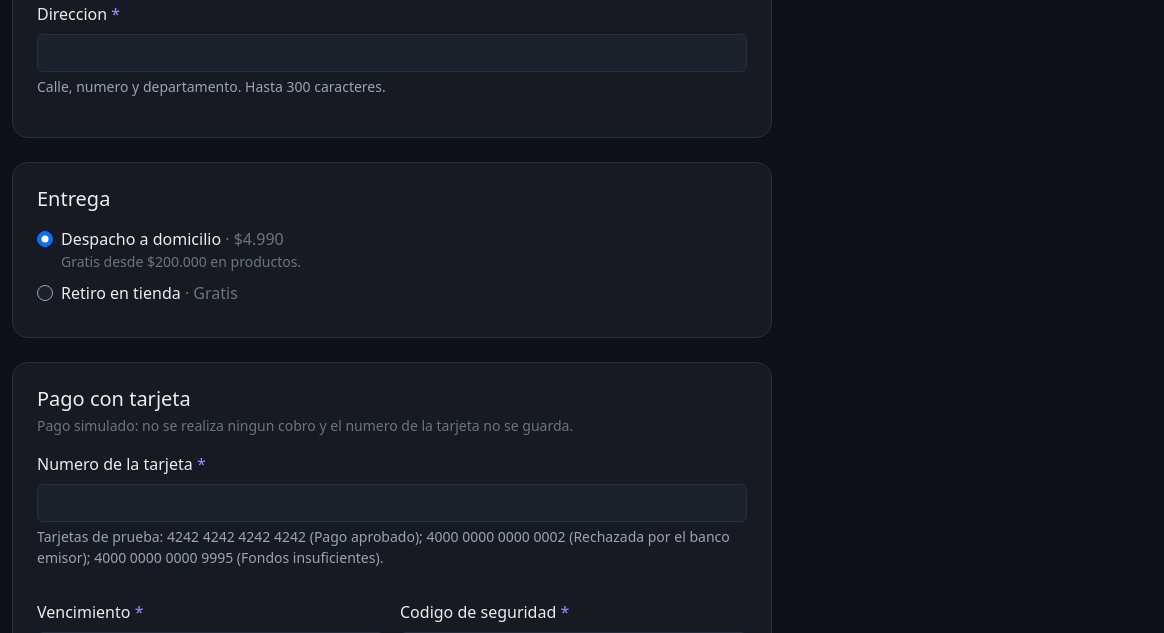
Test case: Checkout › pedido sin costo › con un producto gratis y retiro en tienda no pide tarjeta
The image size is (1164, 633).
(page scrolled)
Step 1. Click the radio button labelled "Retiro en tienda · Gratis" → coordinates (45, 293), box [37, 285, 53, 301]
(page scrolled)
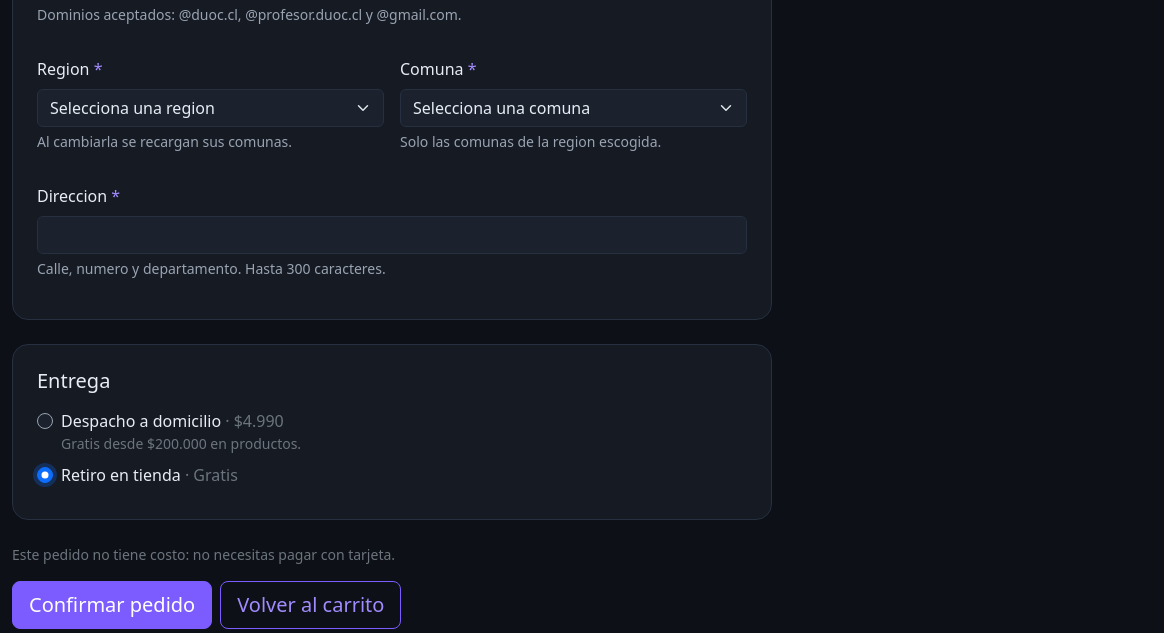
Now the heading "Pago con tarjeta" is gone
Now the button "Confirmar pedido" is shown, box [12, 581, 212, 629]
Now the text "Este pedido no tiene costo: no necesitas pagar con tarjeta." is shown, box [12, 545, 395, 564]
